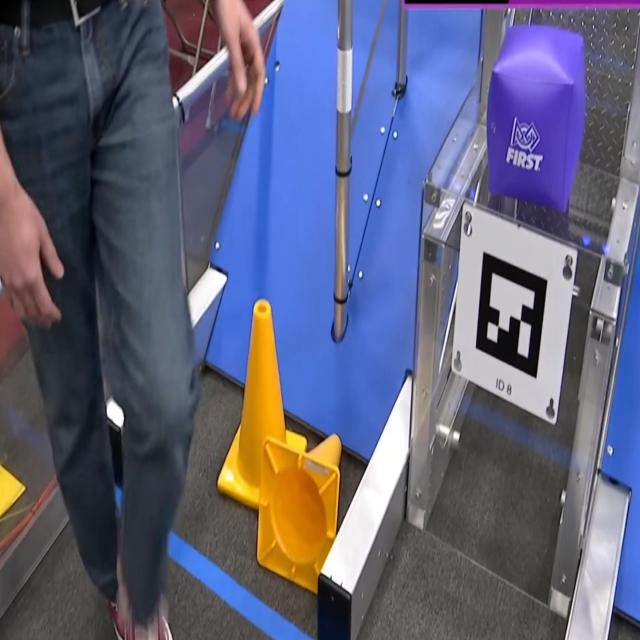frc_cone: (219, 297, 307, 510), (257, 428, 341, 587)
frc_cube: (488, 22, 584, 214)
